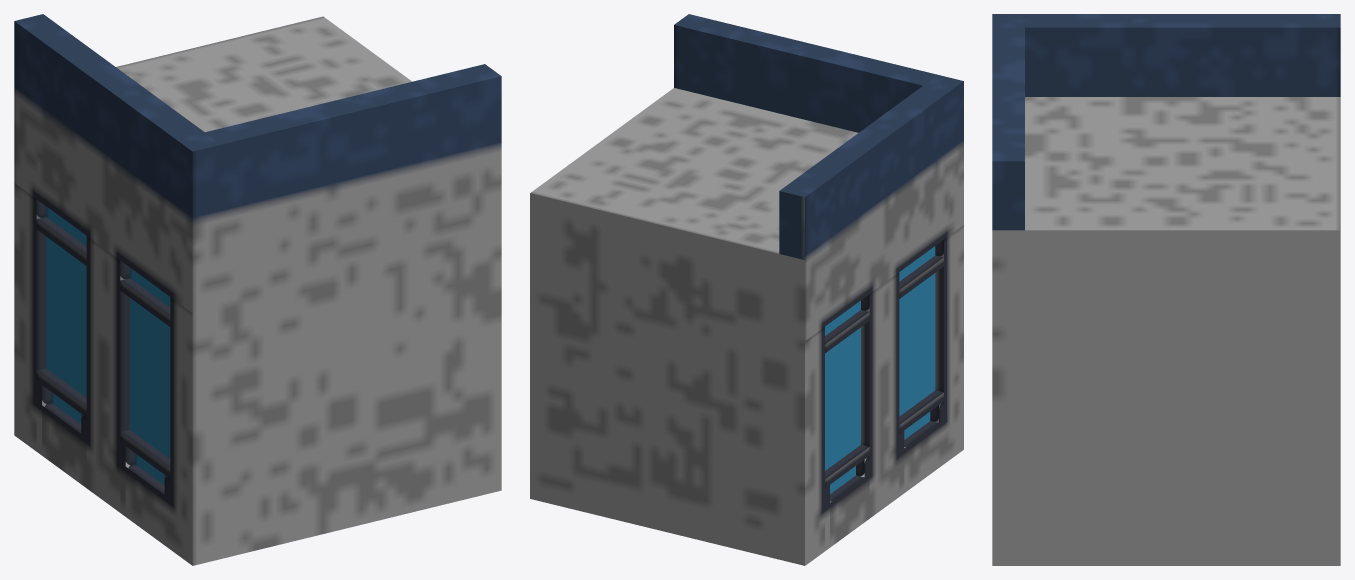
File: BUDYNEK_MAŁY_CZ4.dae
3 views of the same model, side by side, from view 1: azimuth 30°, elevation 25°; view 2: azimuth 150°, elevation 25°; view 3: azimuth 270°, elevation 25° (orthographic). The views are drawn at different scales.
Parts seen in each view (by area): view 1: Content; view 2: Content; view 3: Content.
Part boxes in pixels (x1,y1,x2,y2): Content: (14,14,501,565); Content: (530,14,963,565); Content: (992,14,1340,565).
Size of the model in its own units: 32 by 41 by 32.
1 material, 1 textured.
